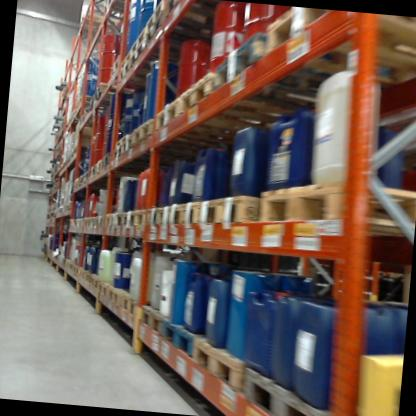pallet: (212, 31, 394, 118), (255, 170, 416, 255), (260, 5, 416, 92), (175, 67, 294, 139), (234, 356, 348, 416), (145, 9, 240, 75), (197, 171, 268, 241), (129, 117, 244, 160), (153, 95, 243, 144), (189, 331, 252, 399), (129, 42, 197, 81), (156, 314, 204, 369), (115, 57, 178, 96), (114, 140, 172, 173), (105, 59, 154, 98), (142, 0, 182, 46), (98, 150, 163, 178), (135, 298, 170, 345), (168, 192, 205, 235), (126, 22, 159, 59), (119, 288, 152, 325), (81, 11, 126, 36), (144, 201, 174, 236), (72, 93, 113, 117), (109, 282, 132, 314), (103, 0, 142, 16), (127, 205, 148, 232), (117, 48, 135, 75), (114, 208, 131, 232), (94, 276, 110, 300), (90, 161, 110, 179), (115, 130, 133, 149), (93, 210, 108, 230), (81, 168, 96, 188), (89, 272, 101, 292), (104, 212, 116, 231), (81, 215, 95, 231), (73, 263, 82, 280), (79, 266, 88, 282), (85, 269, 92, 286)
